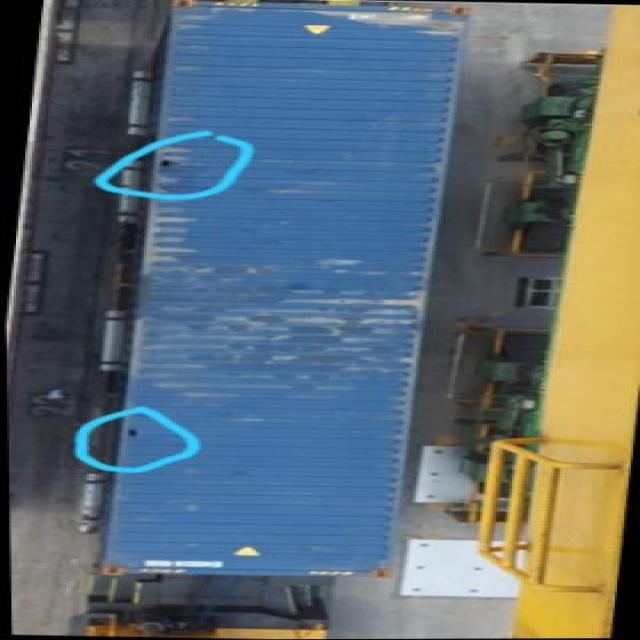hole: (144, 158, 194, 170), (120, 426, 149, 444)
